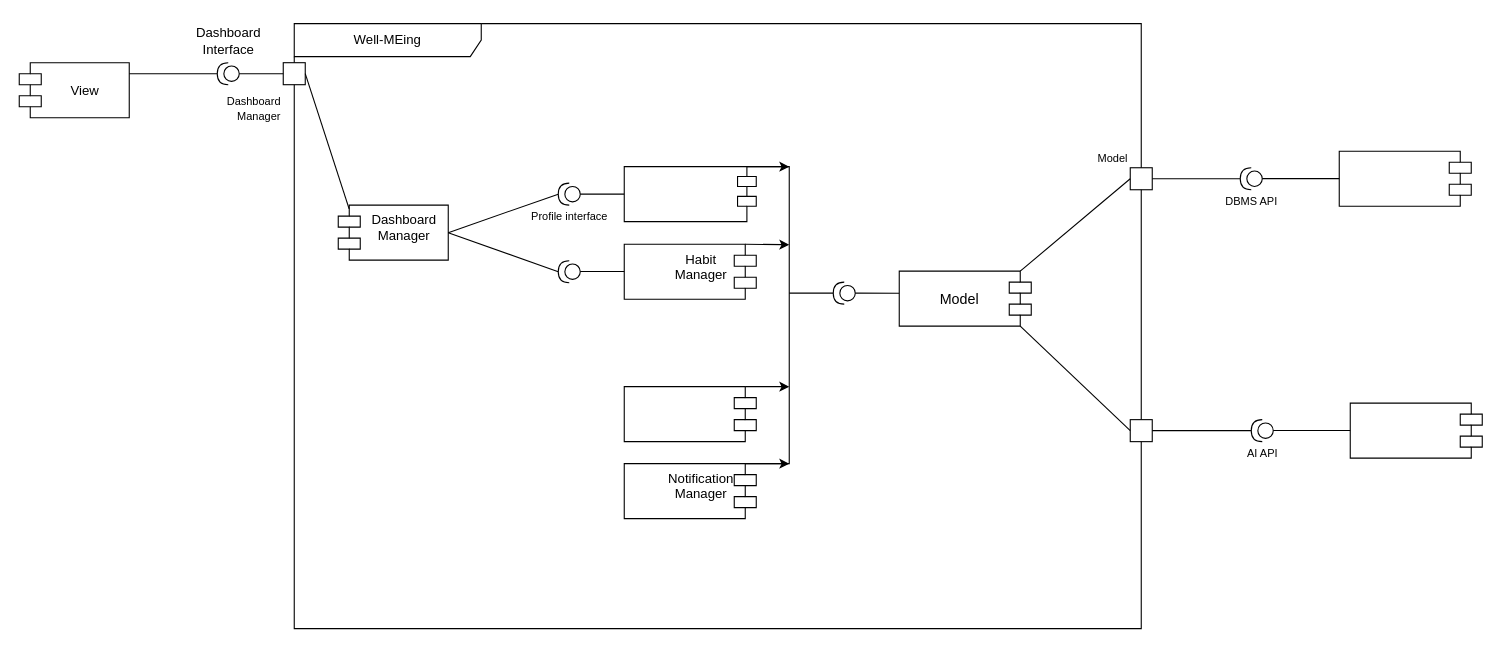
The diagram is 1502 pixels wide and 648 high, and some of its shapes have lost their labels. Here are the shapes that lost their labels. From the top down, the centre of each, then its label:
At point 689,194: "Profile Manager".
At point 1404,178: "DBMS".
At point 568,271: "Habit interface".
At point 843,292: "Model interface".
At point 689,414: "Report Manager".
At point 1415,430: "AI".
